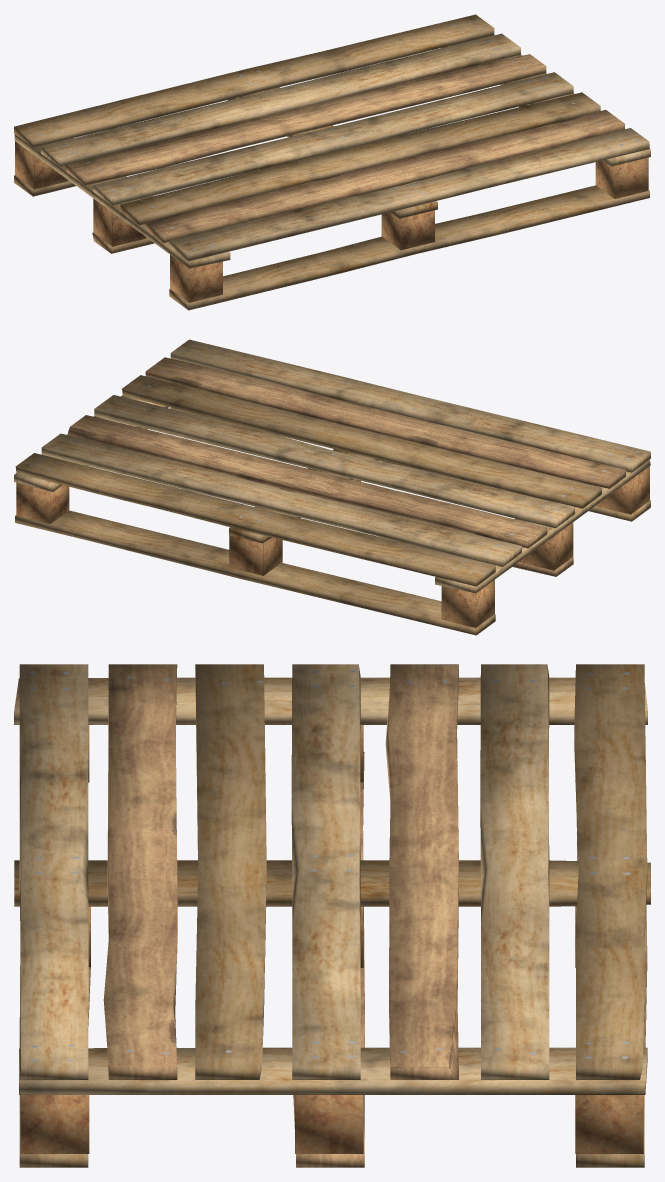
The model's file is HomebaseWoodenPallet_LOD00.gltf.
3 renders of one model, top to bottom at view 1: azimuth 30°, elevation 25°; view 2: azimuth 150°, elevation 25°; view 3: azimuth 270°, elevation 25°, orthographic. The views are drawn at different scales.
Parts seen in each view (by area): view 1: HomebaseWoodenPallet_LOD00_node; view 2: HomebaseWoodenPallet_LOD00_node; view 3: HomebaseWoodenPallet_LOD00_node.
Boxes of the visible parts, bbox=[...] form: HomebaseWoodenPallet_LOD00_node: bbox=[14, 14, 650, 310]; HomebaseWoodenPallet_LOD00_node: bbox=[14, 339, 650, 635]; HomebaseWoodenPallet_LOD00_node: bbox=[14, 664, 650, 1167].
Bounding box in the file's own units: 1.2 × 0.14 × 0.8.
1 material, 1 textured.
